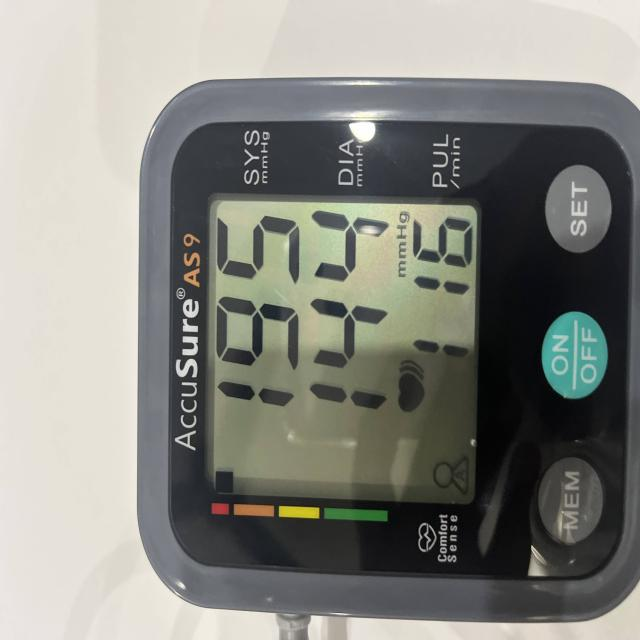bp: (131, 76, 640, 640)
